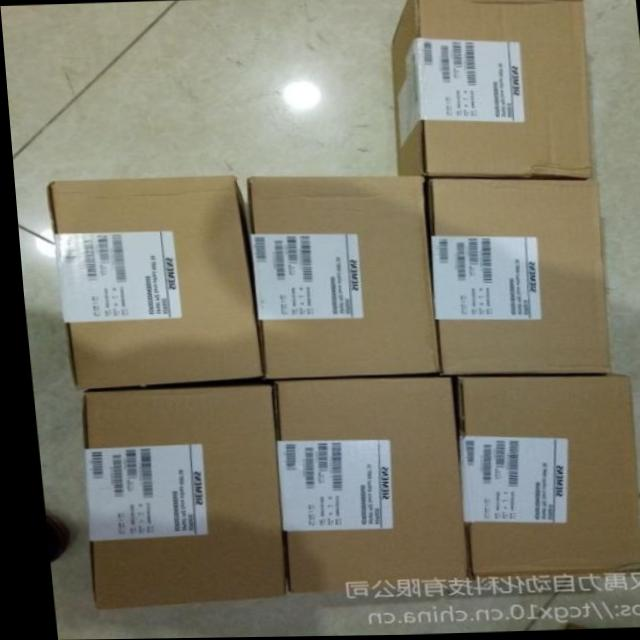box: (75, 379, 277, 610), (43, 176, 256, 389), (264, 377, 466, 593), (241, 177, 435, 379), (448, 373, 634, 579), (423, 177, 605, 377), (390, 0, 588, 181)
